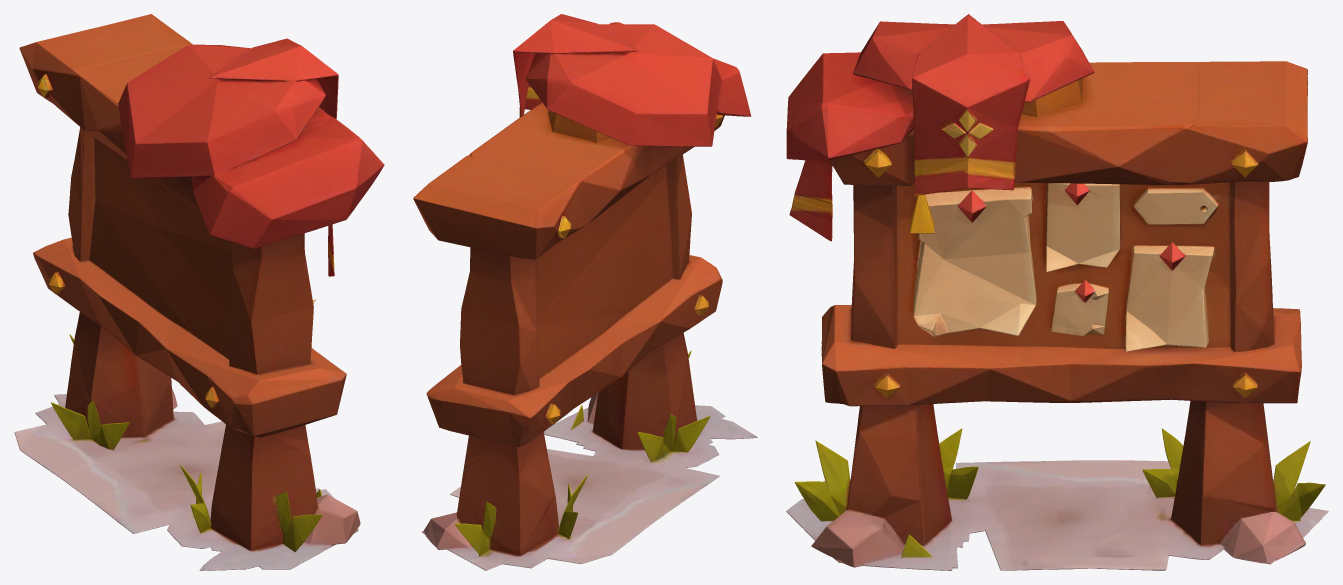
The model's file is KeepSakeNoticeBoard.glb.
The picture shows the model from 3 angles, left to right: view 1: azimuth 30°, elevation 25°; view 2: azimuth 150°, elevation 25°; view 3: azimuth 270°, elevation 25°; orthographic projection. The views are drawn at different scales.
Parts seen in each view (by area): view 1: tripo_node_7eb6965b-9055-42ae-b027-1d73638f1370; view 2: tripo_node_7eb6965b-9055-42ae-b027-1d73638f1370; view 3: tripo_node_7eb6965b-9055-42ae-b027-1d73638f1370.
Boxes of the visible parts, x1,y1,x2,y2 form: tripo_node_7eb6965b-9055-42ae-b027-1d73638f1370: (14, 14, 384, 570); tripo_node_7eb6965b-9055-42ae-b027-1d73638f1370: (413, 14, 757, 570); tripo_node_7eb6965b-9055-42ae-b027-1d73638f1370: (786, 14, 1328, 570).
Size of the model in its own units: 0.4756 by 0.9797 by 0.9474.
Materials: 1 (1 with a texture image).
